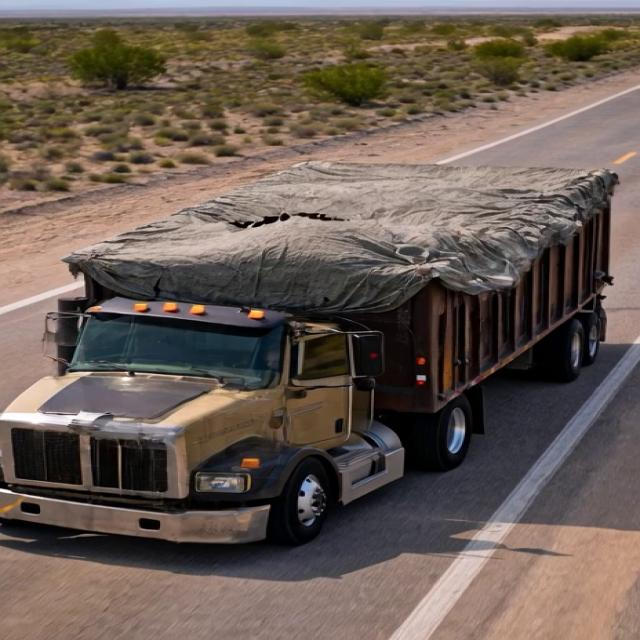Box: (61, 159, 614, 275)
Truck: (3, 127, 626, 552)
